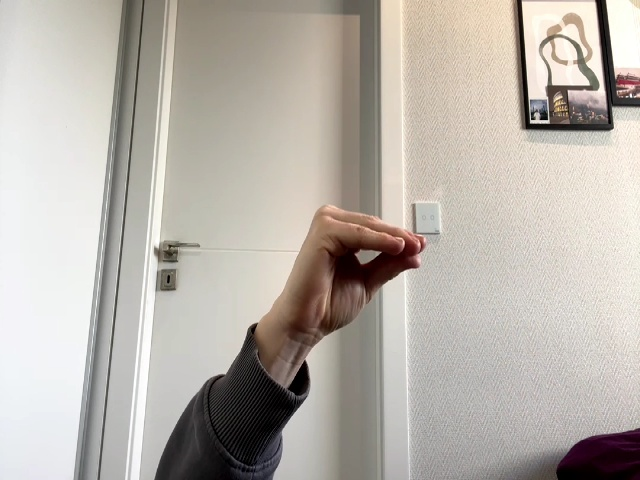E: (280, 204, 425, 334)
